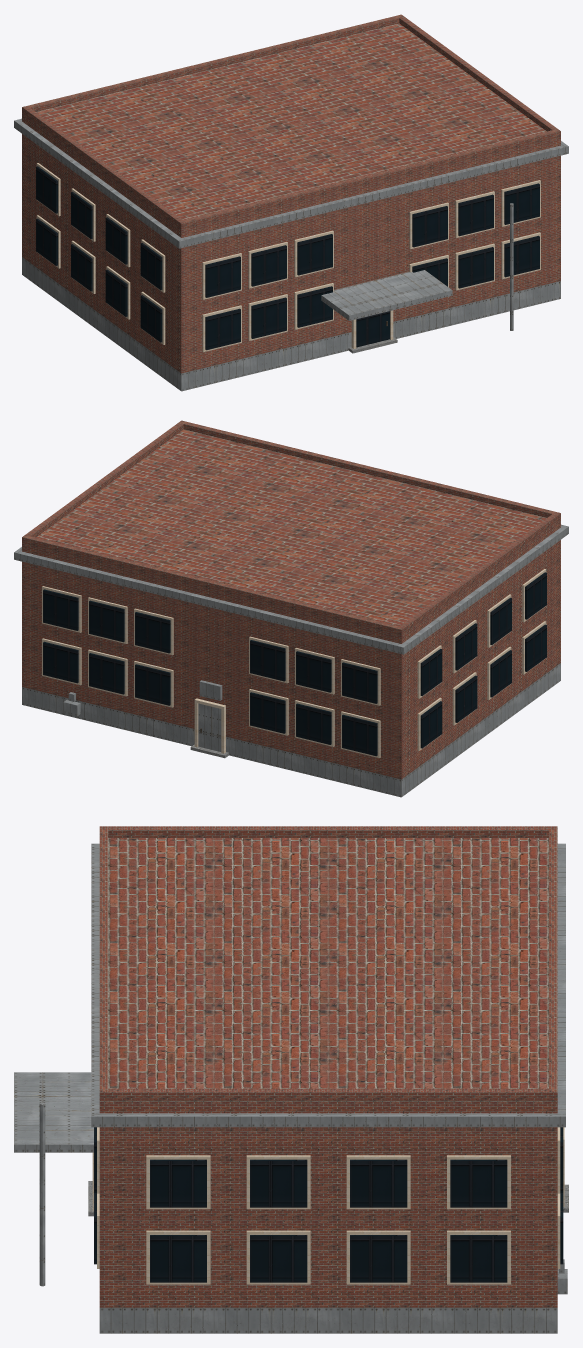
The model's file is eighth-precinct-substation_lod0.gltf.
3 views of the same model, one above another, from view 1: azimuth 30°, elevation 25°; view 2: azimuth 150°, elevation 25°; view 3: azimuth 270°, elevation 25° (orthographic). The views are drawn at different scales.
Parts seen in each view (by area): view 1: eighth-precinct-substation_upper, eighth-precinct-substation_fen_07-glass-curtain-blue_1_t, eighth-precinct-substation_base, eighth-precinct-substation_fen_04-limestone_0, eighth-precinct-substation__cornice, eighth-precinct-substation__canopy, eighth-precinct-substation__parapet_front, eighth-precinct-substation__parapet_back, eighth-precinct-substation__parapet_left, eighth-precinct-substation__parapet_right, eighth-precinct-substation__flag_pole; view 2: eighth-precinct-substation_upper, eighth-precinct-substation_fen_07-glass-curtain-blue_1_t, eighth-precinct-substation_base, eighth-precinct-substation_fen_04-limestone_0, eighth-precinct-substation__cornice, eighth-precinct-substation__parapet_back, eighth-precinct-substation__parapet_front, eighth-precinct-substation_fen_14-steel-panel_4, eighth-precinct-substation__parapet_left, eighth-precinct-substation__parapet_right; view 3: eighth-precinct-substation_upper, eighth-precinct-substation_fen_07-glass-curtain-blue_1_t, eighth-precinct-substation_base, eighth-precinct-substation__cornice, eighth-precinct-substation_fen_04-limestone_0, eighth-precinct-substation__canopy, eighth-precinct-substation__parapet_right, eighth-precinct-substation__parapet_left, eighth-precinct-substation__parapet_front, eighth-precinct-substation__parapet_back, eighth-precinct-substation__flag_pole.
Part boxes in pixels (x1,y1,x2,y2): eighth-precinct-substation_upper: [22, 23, 560, 373]; eighth-precinct-substation_fen_07-glass-curtain-blue_1_t: [36, 166, 539, 350]; eighth-precinct-substation_base: [22, 257, 560, 391]; eighth-precinct-substation_fen_04-limestone_0: [36, 163, 540, 351]; eighth-precinct-substation__cornice: [14, 118, 568, 248]; eighth-precinct-substation__canopy: [321, 270, 452, 320]; eighth-precinct-substation__parapet_front: [178, 129, 560, 228]; eighth-precinct-substation__parapet_back: [22, 14, 403, 114]; eighth-precinct-substation__parapet_left: [25, 108, 183, 226]; eighth-precinct-substation__parapet_right: [399, 16, 557, 131]; eighth-precinct-substation__flag_pole: [510, 203, 513, 330]; eighth-precinct-substation_upper: [22, 429, 560, 779]; eighth-precinct-substation_fen_07-glass-curtain-blue_1_t: [43, 572, 546, 756]; eighth-precinct-substation_base: [22, 663, 560, 797]; eighth-precinct-substation_fen_04-limestone_0: [42, 569, 546, 757]; eighth-precinct-substation__cornice: [14, 524, 568, 654]; eighth-precinct-substation__parapet_back: [22, 535, 404, 634]; eighth-precinct-substation__parapet_front: [179, 420, 560, 520]; eighth-precinct-substation_fen_14-steel-panel_4: [63, 680, 222, 751]; eighth-precinct-substation__parapet_left: [399, 514, 557, 632]; eighth-precinct-substation__parapet_right: [25, 422, 183, 537]; eighth-precinct-substation_upper: [99, 838, 557, 1307]; eighth-precinct-substation_fen_07-glass-curtain-blue_1_t: [94, 1127, 563, 1282]; eighth-precinct-substation_base: [99, 1307, 557, 1333]; eighth-precinct-substation__cornice: [91, 843, 565, 1127]; eighth-precinct-substation_fen_04-limestone_0: [92, 1127, 564, 1284]; eighth-precinct-substation__canopy: [14, 1072, 93, 1152]; eighth-precinct-substation__parapet_right: [108, 1088, 548, 1100]; eighth-precinct-substation__parapet_left: [108, 826, 548, 837]; eighth-precinct-substation__parapet_front: [99, 826, 108, 1100]; eighth-precinct-substation__parapet_back: [549, 826, 557, 1100]; eighth-precinct-substation__flag_pole: [39, 1102, 45, 1286].
Size of the model in its own units: 22.6 by 9.3 by 19.4.
